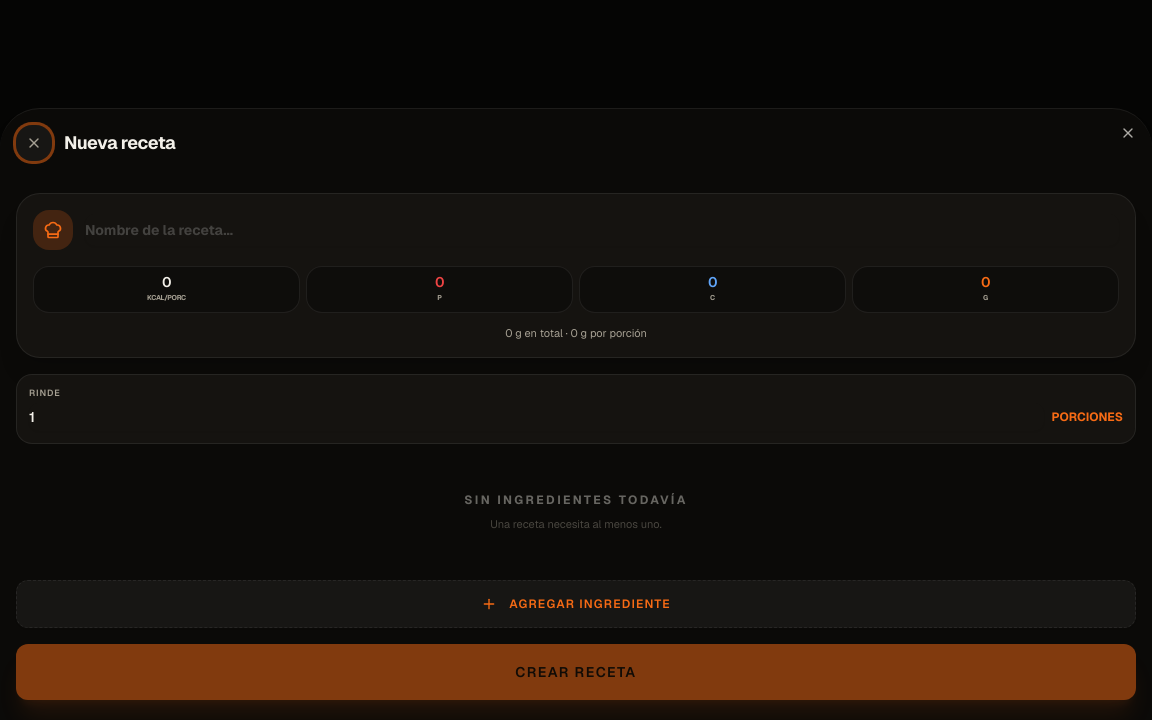
Scenario: RecipeEditorSheet — creating › starts a new ingredient at 100 g
Click the button "Agregar Ingrediente".
click(576, 604)  # box top-left (16, 580), bottom-right (1136, 628)
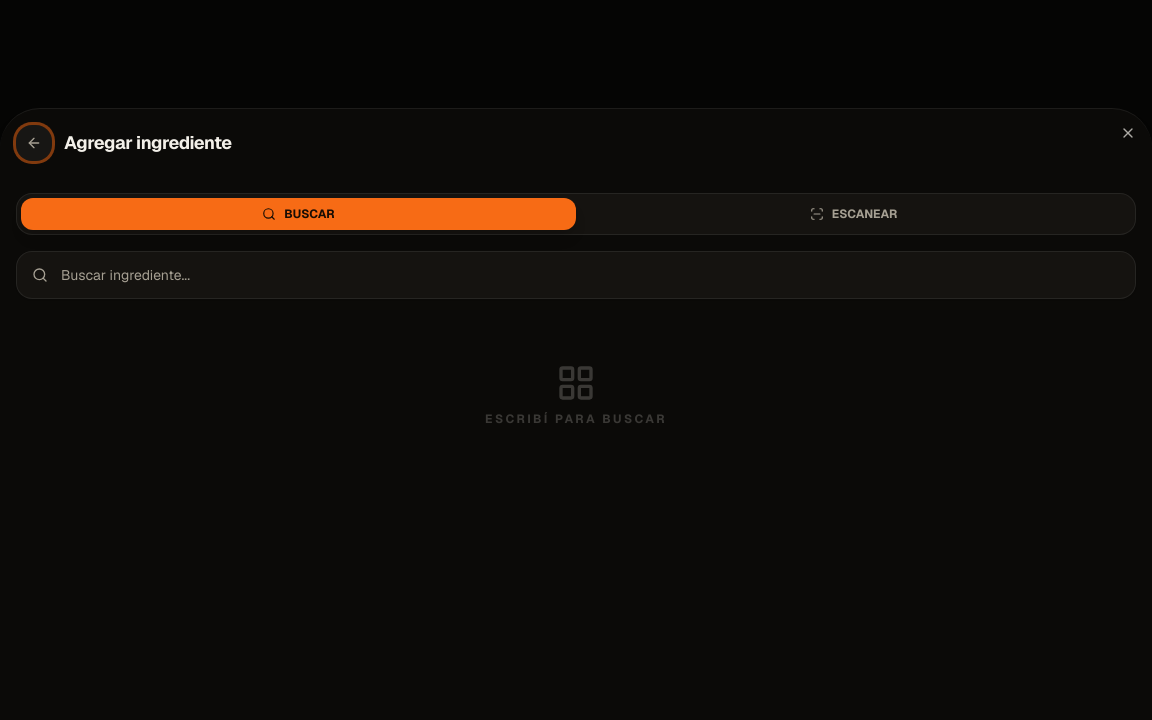
Type "len" into the field with placeholder "Buscar ingrediente...".
click(576, 275); type("len")  # box top-left (16, 251), bottom-right (1136, 299)
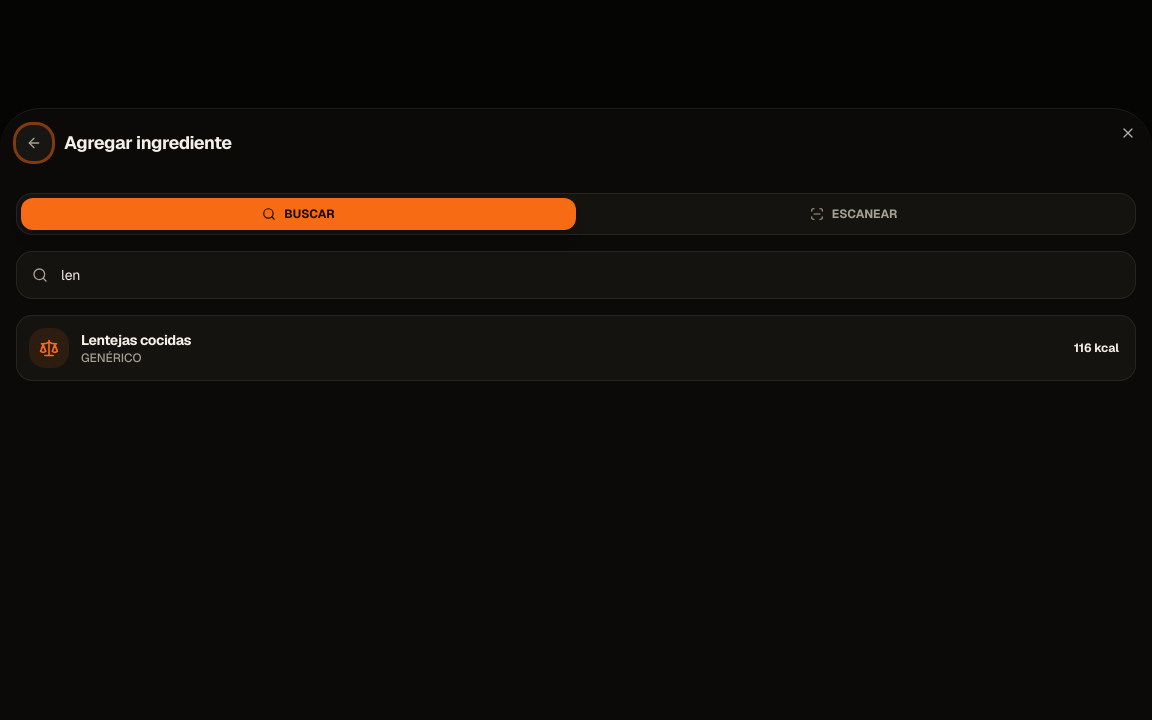
Click the heading "Lentejas cocidas".
click(136, 340)  # box top-left (81, 330), bottom-right (191, 350)
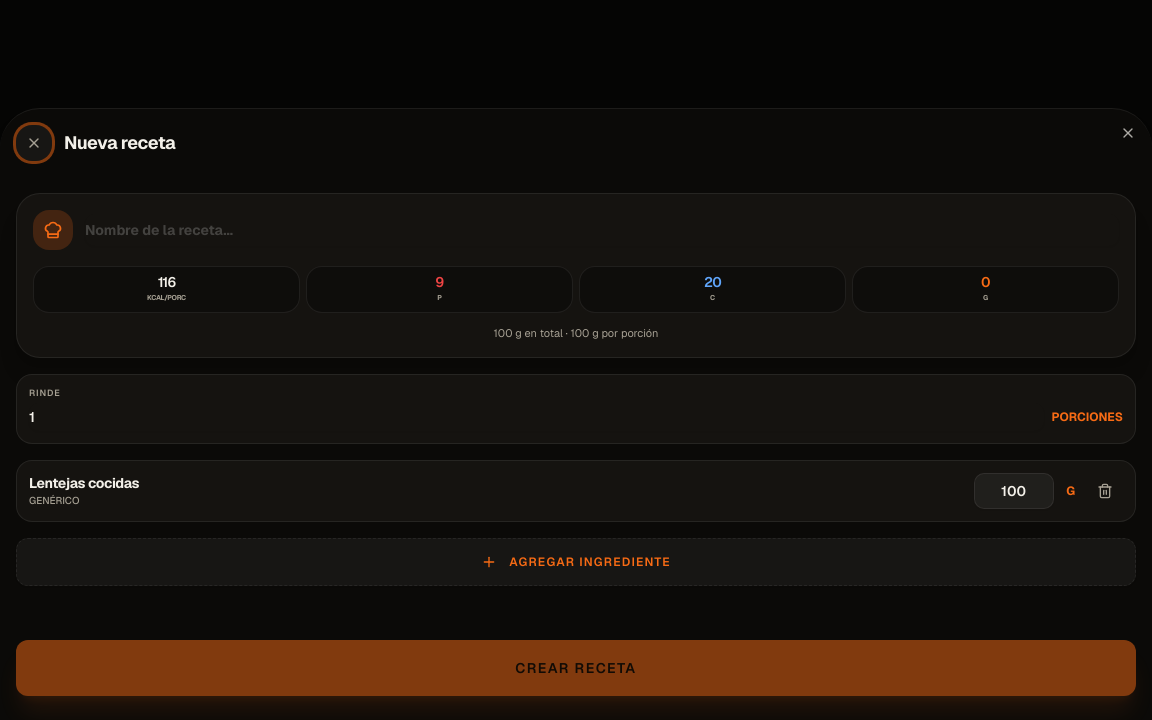
Now the number field named "Gramos de Lentejas cocidas" holds "100", box top-left (974, 472), bottom-right (1054, 508)
